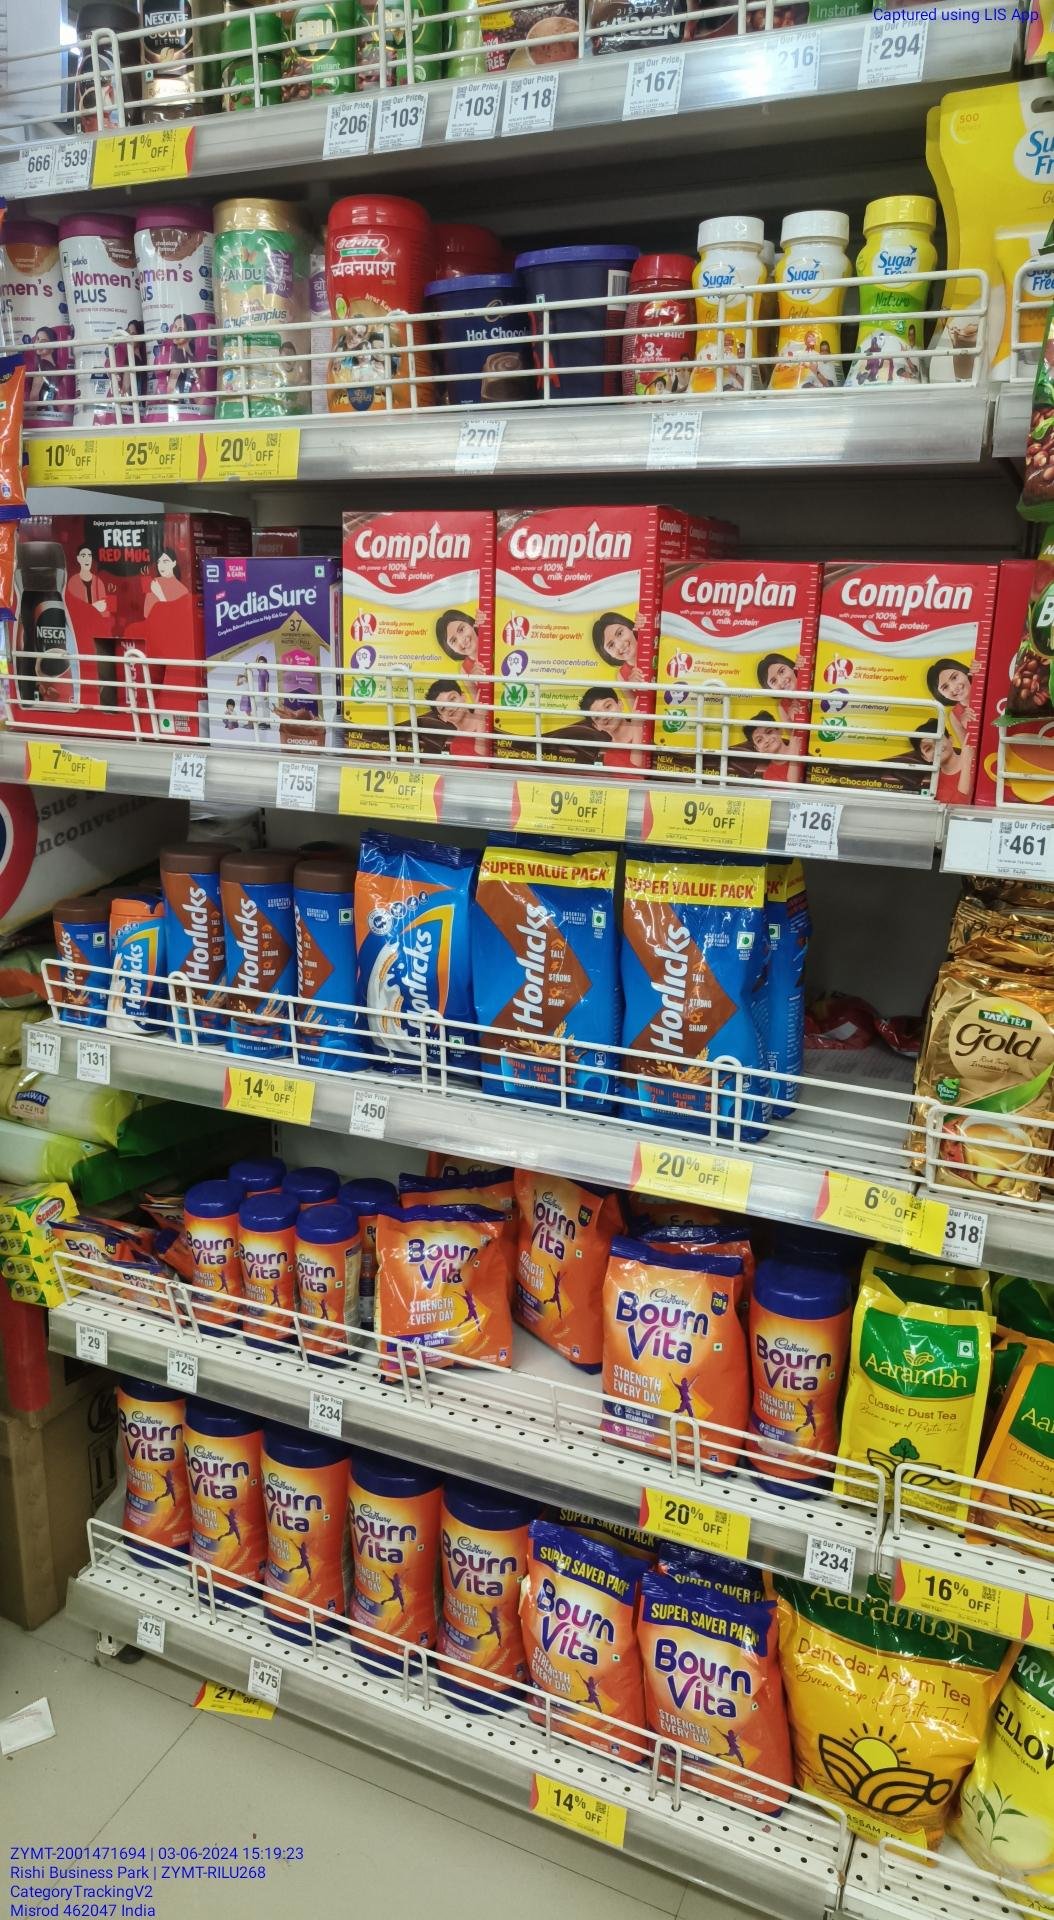BOURN_VITA_1_KG_JAR: (745, 1290, 835, 1504), (344, 1475, 431, 1683), (443, 1507, 524, 1718), (182, 1413, 258, 1613), (261, 1444, 335, 1645), (119, 1380, 178, 1562)
BOURN_VITA_500_G_JAR: (299, 1222, 363, 1371), (243, 1221, 293, 1353), (188, 1206, 240, 1332)
BOURN_VITA_750_G_POUCH: (640, 1581, 784, 1818), (597, 1235, 733, 1471), (528, 1535, 636, 1763), (388, 1208, 508, 1378), (518, 1169, 594, 1371)
COMPLAN_CHOCOLATE_1_KG_PACK: (495, 510, 646, 773), (345, 509, 489, 765)
COMPLAN_CHOCOLATE_200_GMS_PACK: (816, 563, 993, 800), (667, 562, 806, 789)
HORLICK_CHOCOLATE_500_G_JAR: (225, 867, 289, 1061), (165, 852, 223, 1046), (296, 880, 352, 1072)
HORLICK_CHOCOLATE_750_G_POUCH: (620, 861, 766, 1138), (478, 854, 607, 1109)
HORLICK_CLASSIC_MALT_750_G_POUCH: (360, 837, 476, 1081)
PEDIASURE_CHOCOLATE_500_G_PACK: (209, 558, 337, 758)
